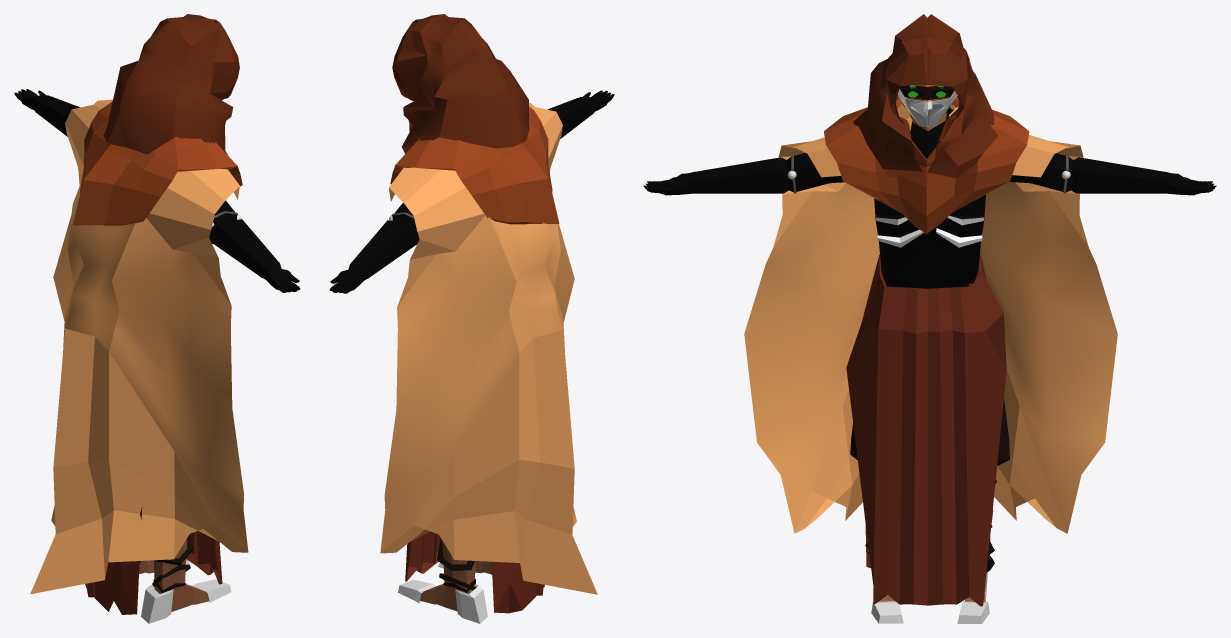
Rendered from Perso3d sniper.fbx.
3 views of the same model, side by side, from view 1: azimuth 30°, elevation 25°; view 2: azimuth 150°, elevation 25°; view 3: azimuth 270°, elevation 25° (orthographic). The views are drawn at different scales.
Visible parts, largest first — view 1: Box020, Box030, Box028, Box019, Box032, Box010, Box001; view 2: Box020, Box030, Box028, Box019, Box032, Box010, Box001; view 3: Box020, Box032, Box030, Box028, Box019, Box011, Box010, Box026.
Boxes of the visible parts, x1=… form: Box020: x1=30, y1=99, x2=248, y2=594; Box030: x1=103, y1=14, x2=239, y2=154; Box028: x1=73, y1=101, x2=242, y2=225; Box019: x1=14, y1=89, x2=300, y2=611; Box032: x1=85, y1=507, x2=222, y2=614; Box010: x1=141, y1=559, x2=231, y2=623; Box001: x1=139, y1=539, x2=193, y2=586; Box020: x1=380, y1=103, x2=597, y2=594; Box030: x1=392, y1=14, x2=529, y2=153; Box028: x1=390, y1=107, x2=559, y2=224; Box019: x1=329, y1=90, x2=614, y2=611; Box032: x1=405, y1=531, x2=544, y2=613; Box010: x1=398, y1=562, x2=487, y2=623; Box001: x1=436, y1=538, x2=476, y2=590; Box020: x1=744, y1=103, x2=1117, y2=533; Box032: x1=846, y1=254, x2=1006, y2=606; Box030: x1=853, y1=14, x2=997, y2=178; Box028: x1=824, y1=96, x2=1029, y2=234; Box019: x1=643, y1=153, x2=1216, y2=602; Box011: x1=874, y1=107, x2=985, y2=288; Box010: x1=871, y1=572, x2=989, y2=623; Box026: x1=898, y1=89, x2=957, y2=126.
Size of the model in its own units: 23.66 by 65.24 by 56.48.
